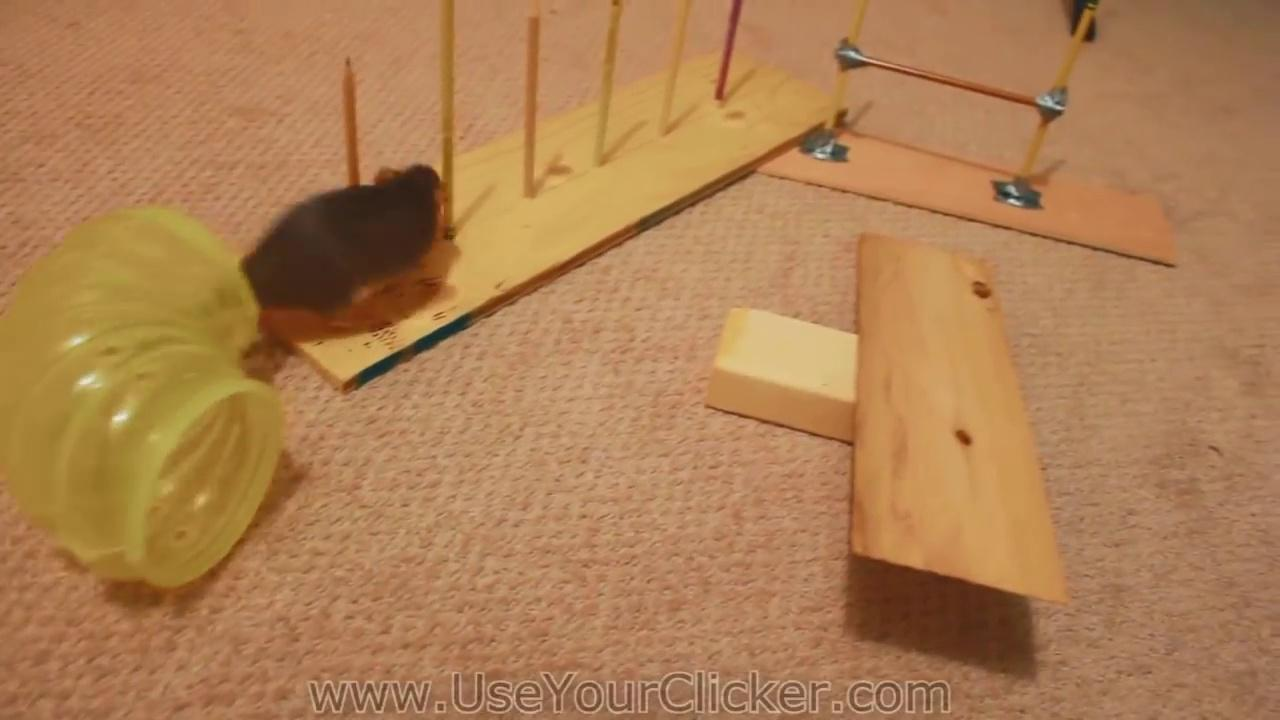rat: (239, 165, 441, 329)
